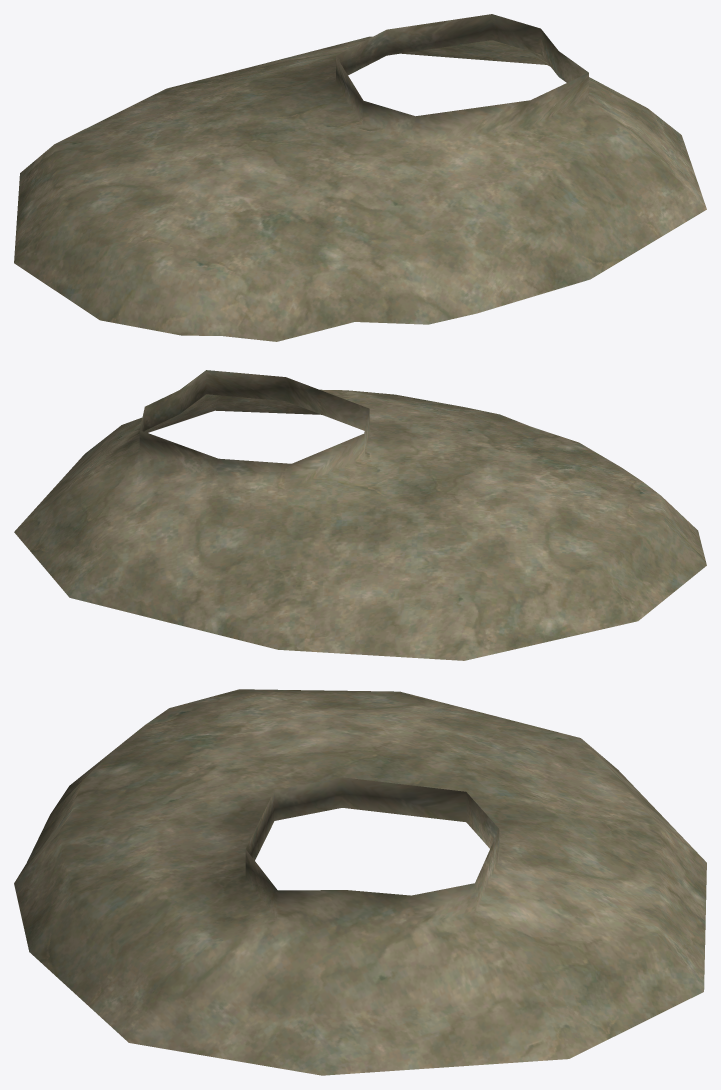
The model's file is OVERHILL_A_01_OBJECT05.fbx.
3 renders of one model, top to bottom at view 1: azimuth 30°, elevation 25°; view 2: azimuth 150°, elevation 25°; view 3: azimuth 270°, elevation 25°, orthographic. The views are drawn at different scales.
Parts seen in each view (by area): view 1: OVERHILL_A_01_OBJECT05; view 2: OVERHILL_A_01_OBJECT05; view 3: OVERHILL_A_01_OBJECT05.
Part boxes in pixels (x1,y1,x2,y2): OVERHILL_A_01_OBJECT05: (14, 14, 706, 341); OVERHILL_A_01_OBJECT05: (14, 370, 706, 660); OVERHILL_A_01_OBJECT05: (14, 689, 706, 1075).
Bounding box in the file's own units: 77513 × 12664 × 62851.
Materials: 1 (1 with a texture image).
